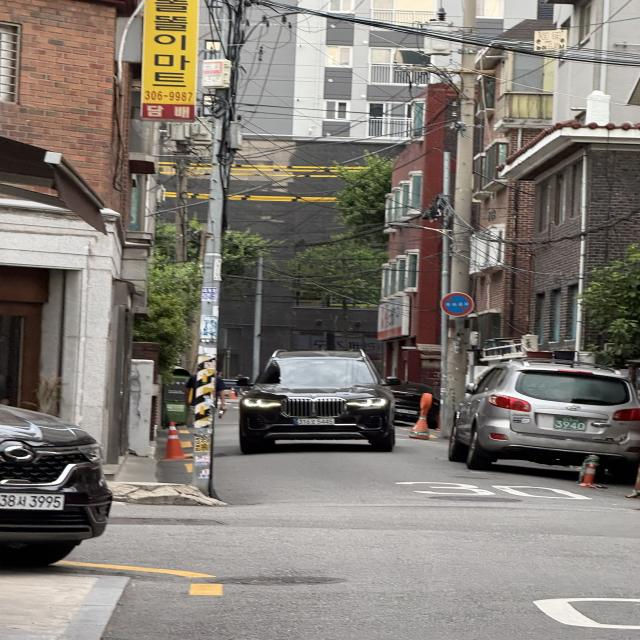car: (440, 343, 640, 500), (0, 378, 129, 599), (222, 334, 415, 464)
